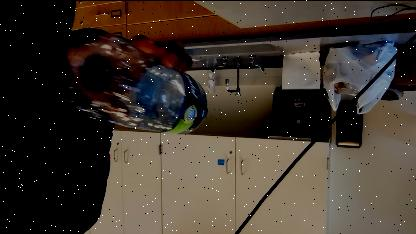Plastic Bottle: (58, 34, 212, 136)
